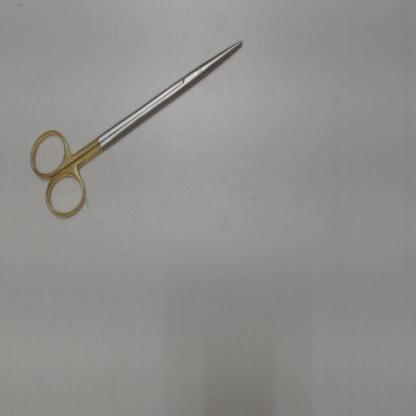7 Metzenbaum Scissors: (25, 36, 247, 226)
